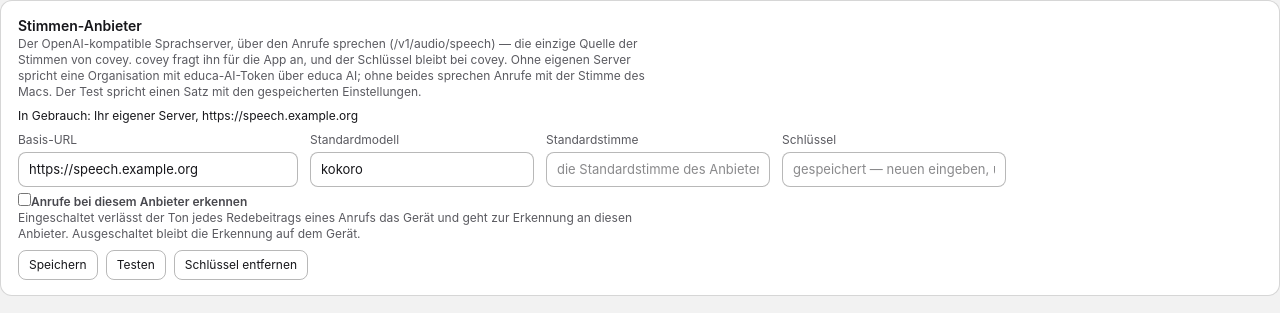
the organisation's voice provider › tests the saved settings and says the outcome
Click the button "Testen": (136, 265) top-left (106, 250), bottom-right (166, 280)
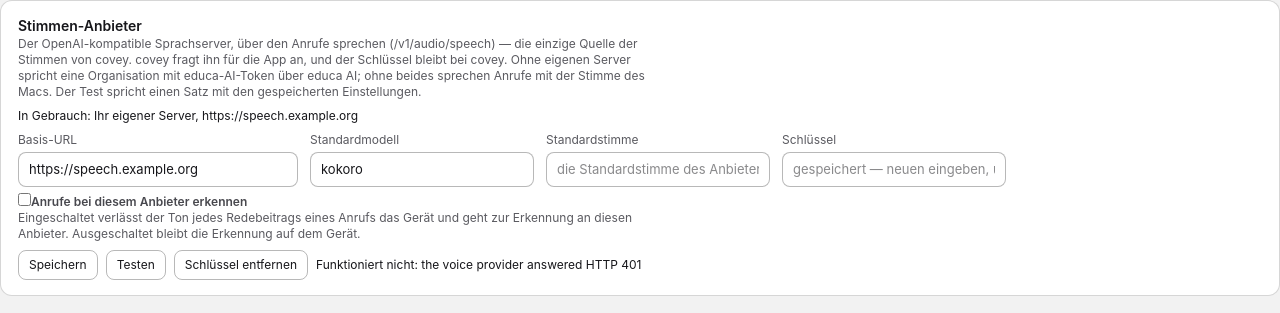
Expected: the text "Funktioniert nicht: the voice provider answered HTTP 401" is shown, top-left (316, 257), bottom-right (641, 273)
